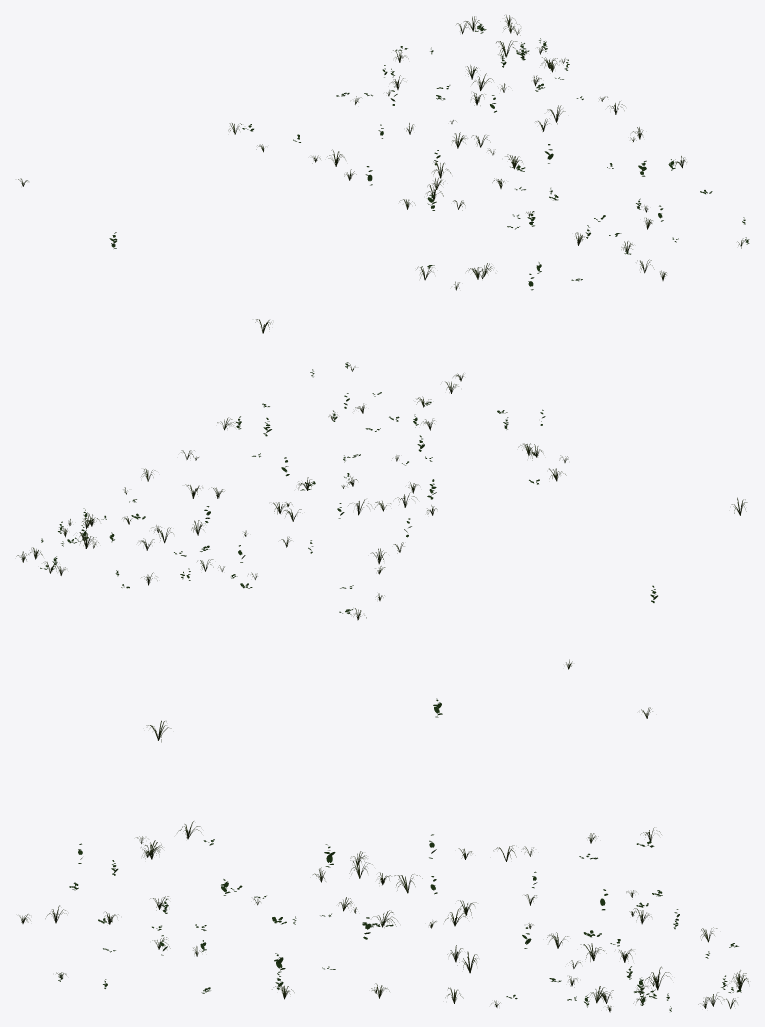
Rendered from weeds_-02+00_foliage.dae.
3 renders of one model, top to bottom at view 1: azimuth 30°, elevation 25°; view 2: azimuth 150°, elevation 25°; view 3: azimuth 270°, elevation 25°, orthographic. The views are drawn at different scales.
Parts seen in each view (by area): view 1: weeds_-02+00_foliage; view 2: weeds_-02+00_foliage; view 3: weeds_-02+00_foliage.
Boxes of the visible parts, x1,y1,x2,y2 form: weeds_-02+00_foliage: (18,15,749,333); weeds_-02+00_foliage: (16,362,747,669); weeds_-02+00_foliage: (19,698,748,1012).
Size of the model in its own units: 10.02 by 10.13 by 0.5823.
